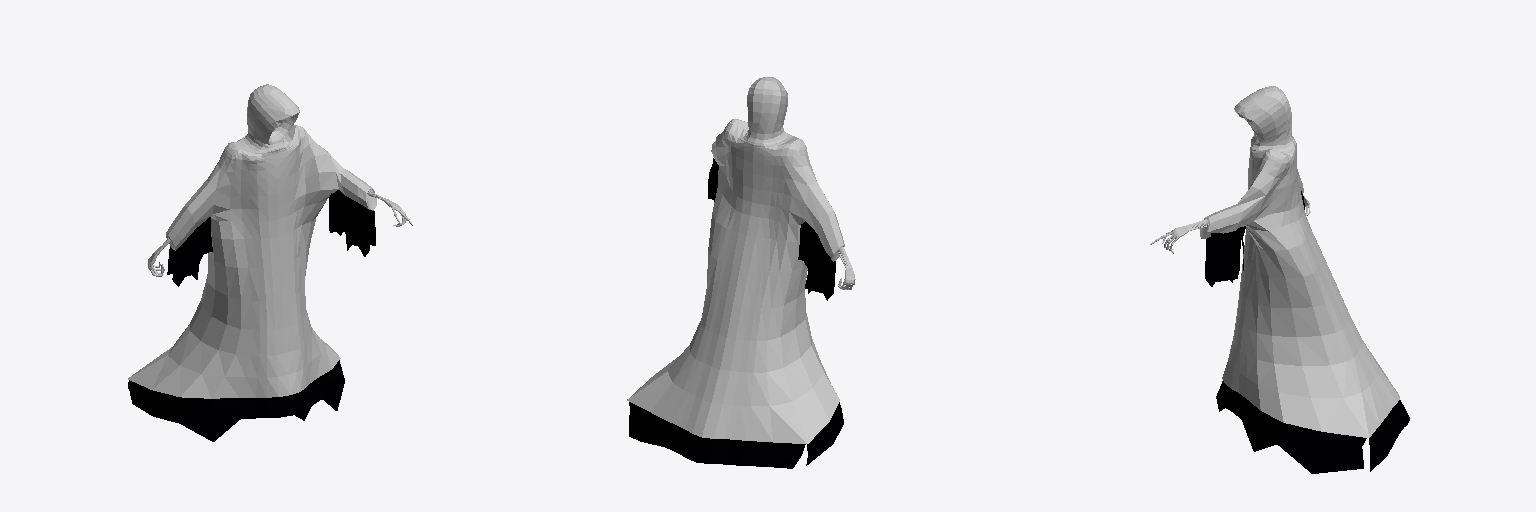
Rendered from reaper.obj.
3 views of the same model, side by side, from view 1: azimuth 30°, elevation 25°; view 2: azimuth 150°, elevation 25°; view 3: azimuth 270°, elevation 25° (orthographic).
Visible parts, largest first — view 1: Ghostly_Figure_Cube.222; view 2: Ghostly_Figure_Cube.222; view 3: Ghostly_Figure_Cube.222.
Boxes of the visible parts, x1=… form: Ghostly_Figure_Cube.222: x1=128, y1=84, x2=412, y2=441; Ghostly_Figure_Cube.222: x1=627, y1=77, x2=855, y2=468; Ghostly_Figure_Cube.222: x1=1150, y1=86, x2=1409, y2=473.
Size of the model in its own units: 2.61 by 4.4 by 3.04.